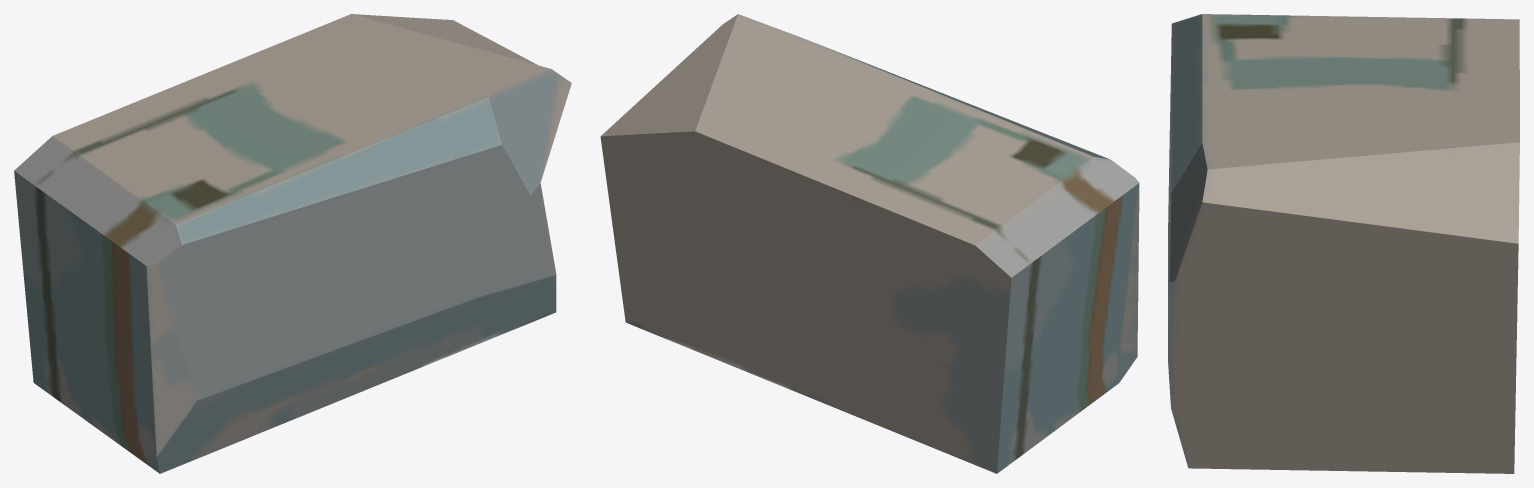
Rendered from ROCK04.fbx.
The picture shows the model from 3 angles, left to right: view 1: azimuth 30°, elevation 25°; view 2: azimuth 150°, elevation 25°; view 3: azimuth 270°, elevation 25°; orthographic projection. The views are drawn at different scales.
Parts seen in each view (by area): view 1: ROCK04; view 2: ROCK04; view 3: ROCK04.
Boxes of the visible parts, <box> form: ROCK04: <box>14,14,571,473</box>; ROCK04: <box>600,14,1139,473</box>; ROCK04: <box>1168,14,1519,473</box>.
Bounding box in the file's own units: 145 × 96.02 × 79.07.
Materials: 1 (1 with a texture image).
